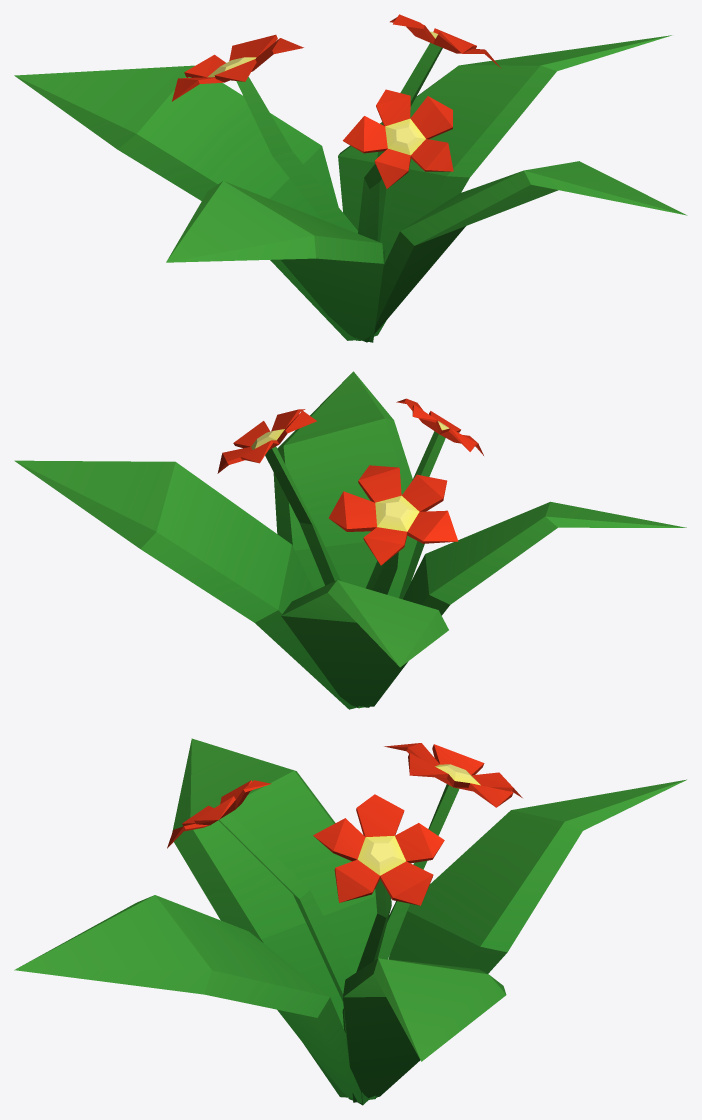
Rendered from Flower_bush_red1.fbx.
The picture shows the model from 3 angles, top to bottom: view 1: azimuth 30°, elevation 25°; view 2: azimuth 150°, elevation 25°; view 3: azimuth 270°, elevation 25°; orthographic projection. The views are drawn at different scales.
Visible parts, largest first — view 1: Flower_bush_red; view 2: Flower_bush_red; view 3: Flower_bush_red.
Boxes of the visible parts, x1,y1,x2,y2 form: Flower_bush_red: [14, 14, 687, 342]; Flower_bush_red: [14, 371, 686, 709]; Flower_bush_red: [14, 738, 686, 1105].
Bounding box in the file's own units: 135 × 62.64 × 119.
